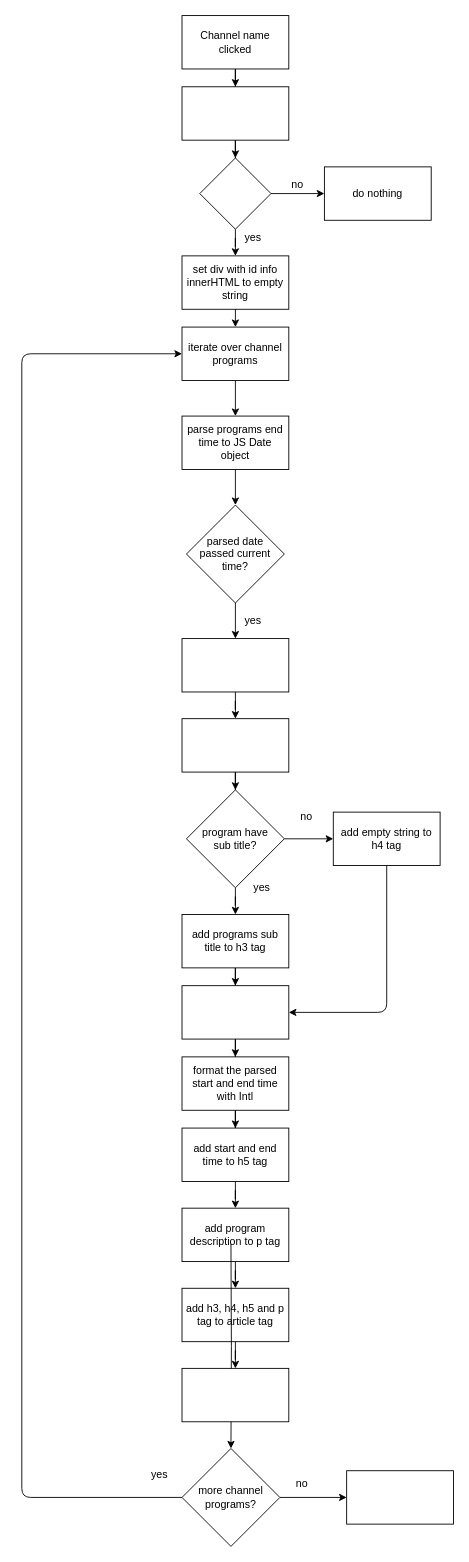
The diagram is 469 pixels wide and 1562 high, and some of its shapes have lost their labels. The centre of each missing label's shape, as x and y in pixels:
add article tag to div with id info: the point at 235,1394
create article, h3, h4, h5 and p tag: the point at 235,665
exit: the point at 399,1497
parse programs start time to JS Date object: the point at 235,1012
request SR API with channel program with id found on event.target: the point at 235,113
set h3 tags innerHTML to programs title: the point at 235,745
status 200?: the point at 235,193
